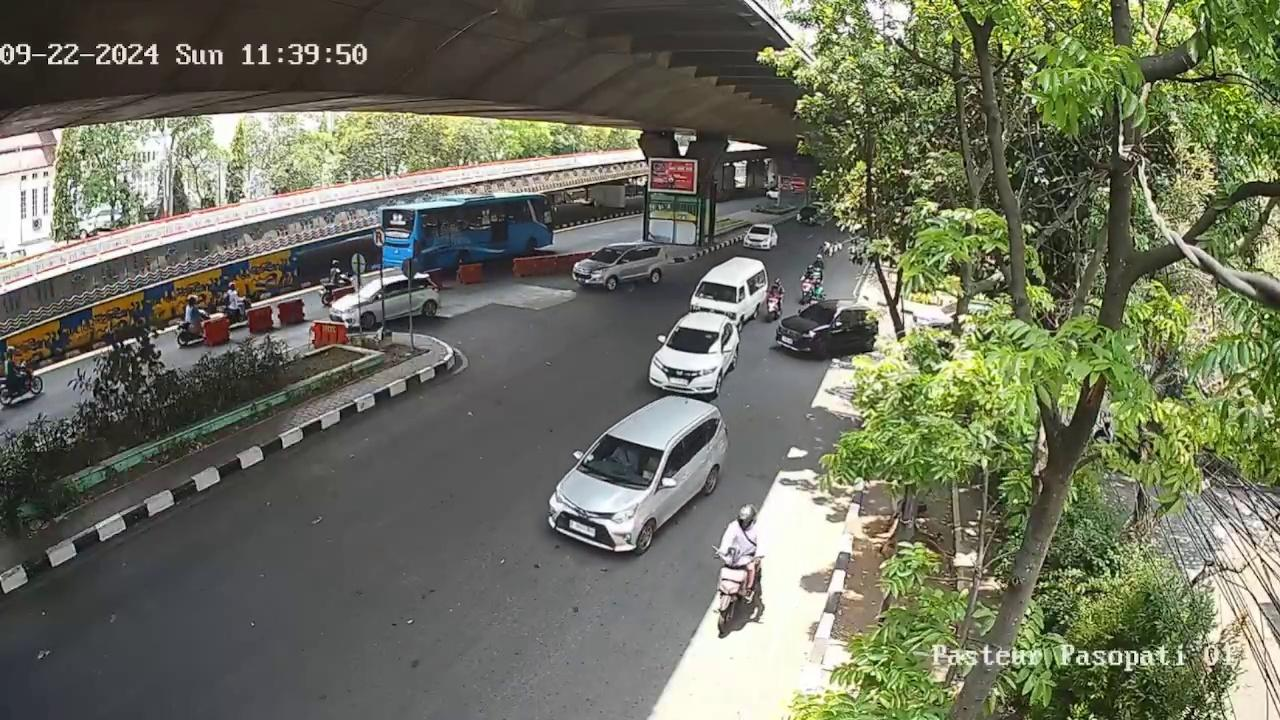pakai: (612, 441, 639, 474)
windshield: (580, 432, 665, 488), (668, 327, 722, 355), (695, 280, 740, 303), (801, 304, 836, 326)
